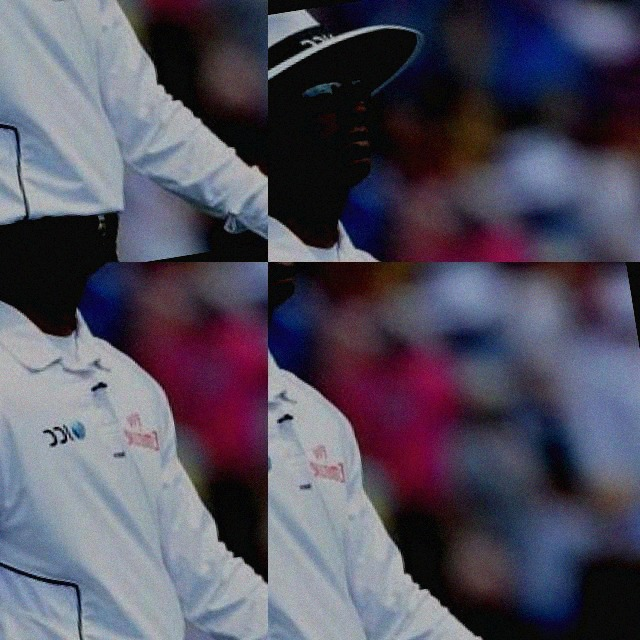No_Action: (268, 262, 620, 640), (268, 17, 402, 262)
No_Ball: (0, 262, 268, 640), (0, 0, 268, 262)
